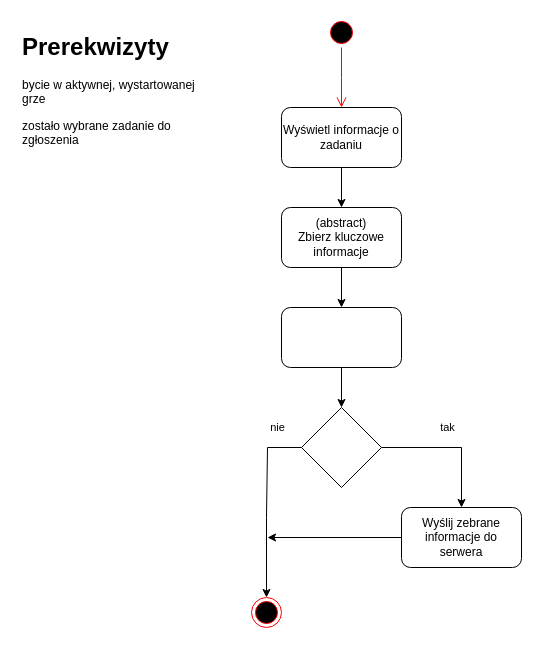
Image size: 539x645. Some labels were removed from this diagram. The centre of each missing label's shape, as x and y in pixels:
Czy wygląda dobrze?: the point at 341,447
Wyświetl zebrane informacje: the point at 341,337
